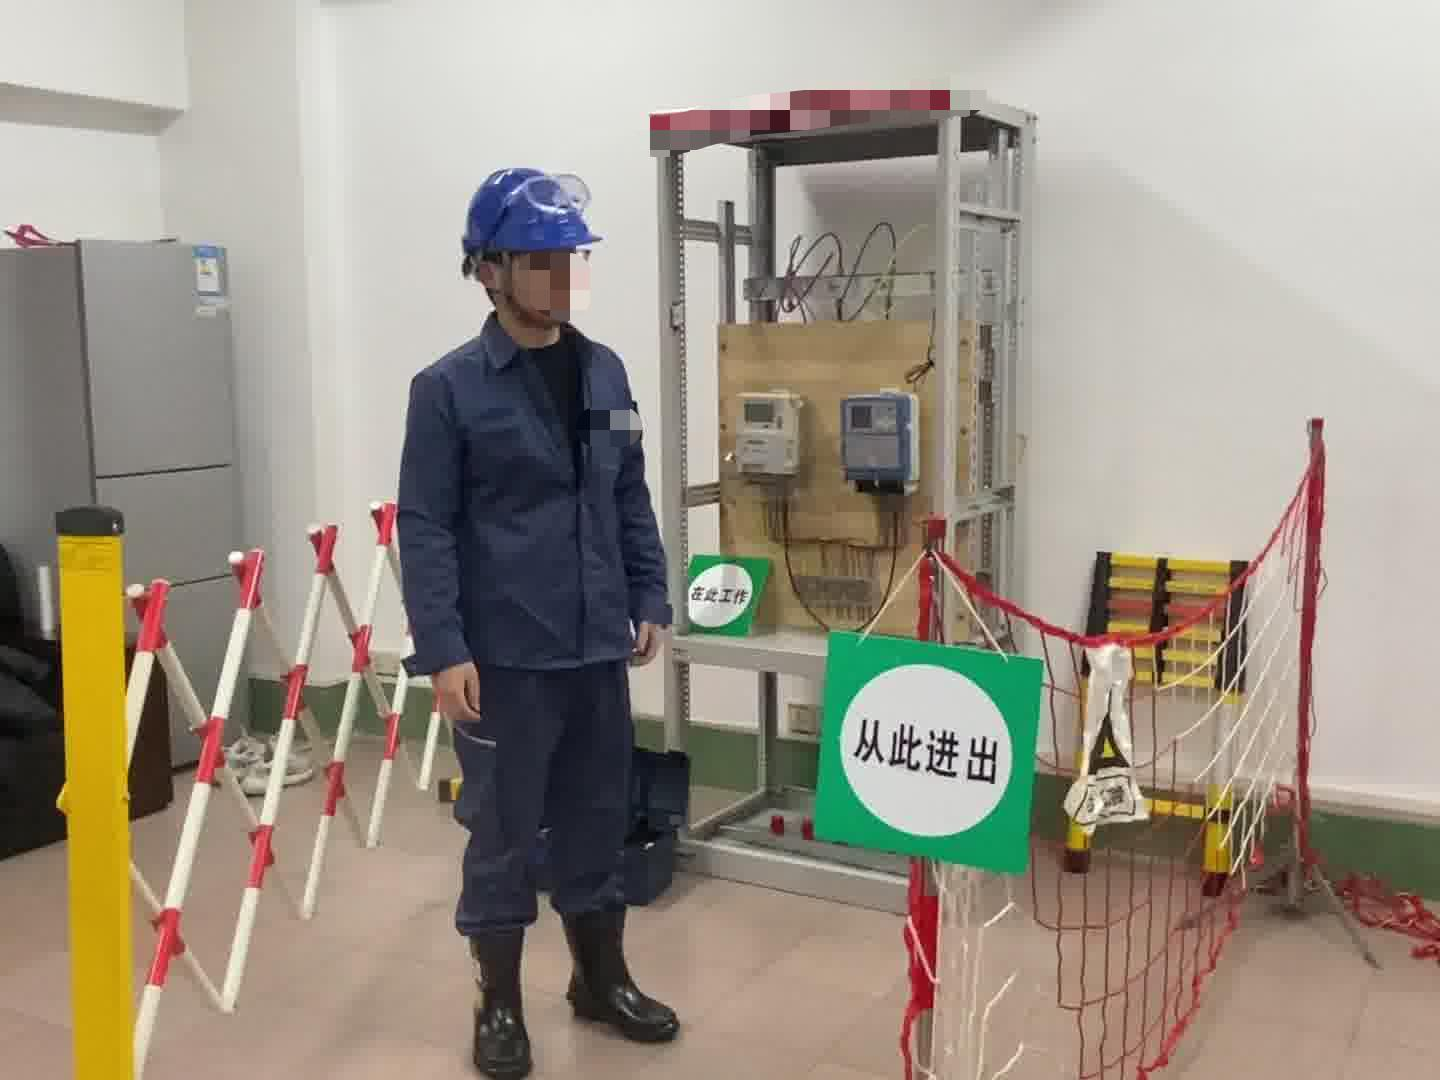halt: (459, 166, 605, 341)
inear: (475, 255, 526, 315)
